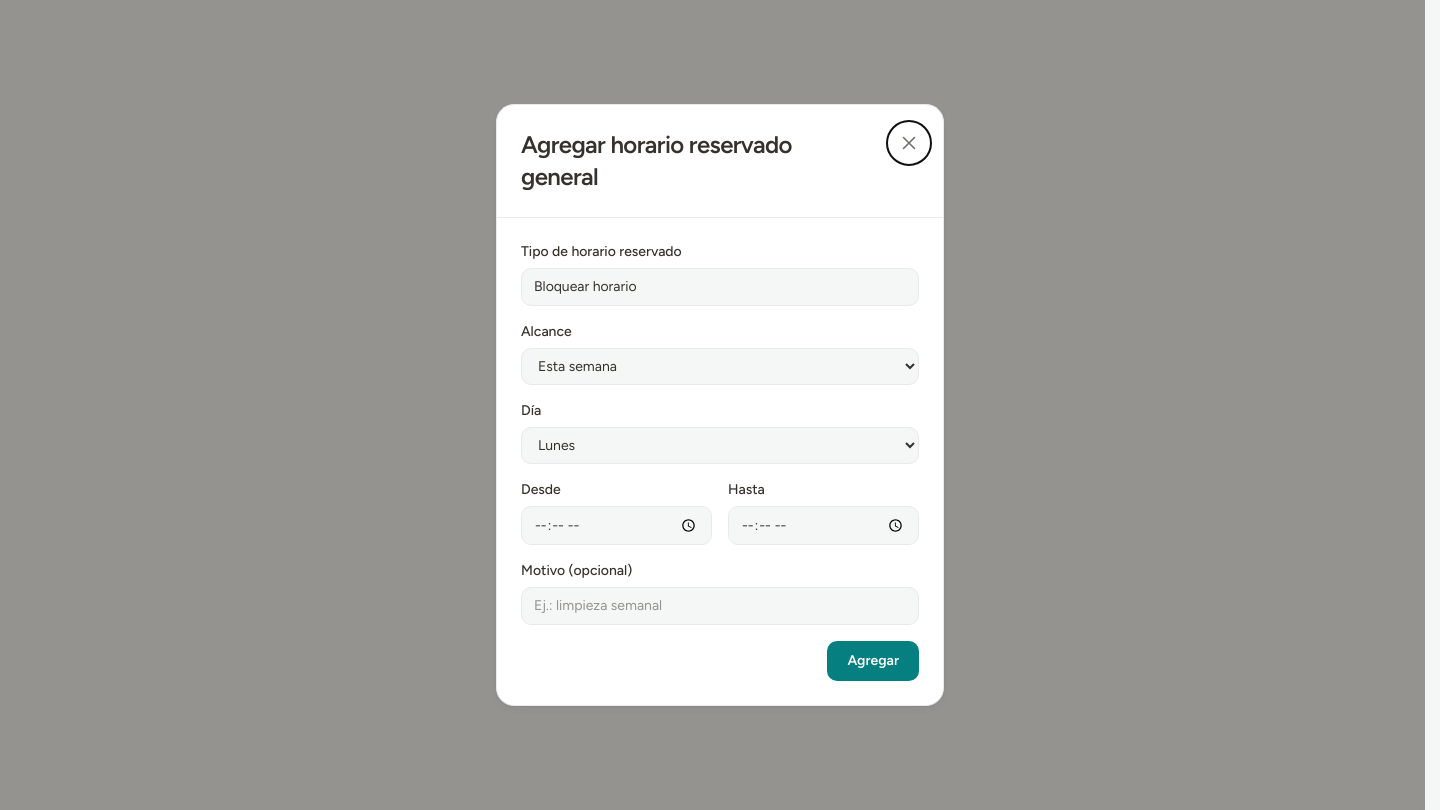
Test case: AgregarReglaModal › 'Seguir editando' vuelve al formulario sin cerrar
This screenshot has width=1440, height=810.
In the time field labelled "Desde": (616, 526) [521, 506, 712, 545], type "07:00"
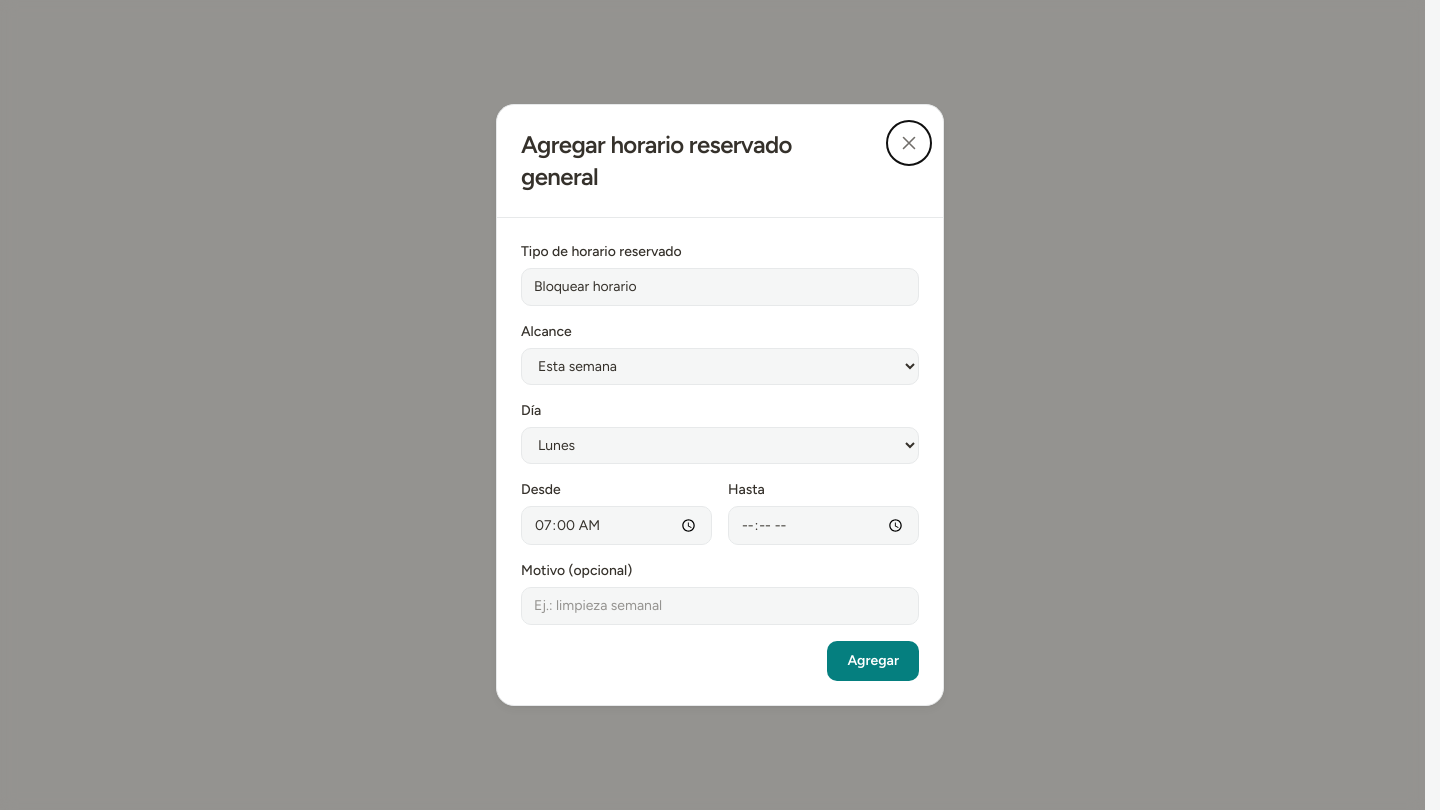
Click the button named "Cerrar": (909, 143) [887, 121, 931, 165]
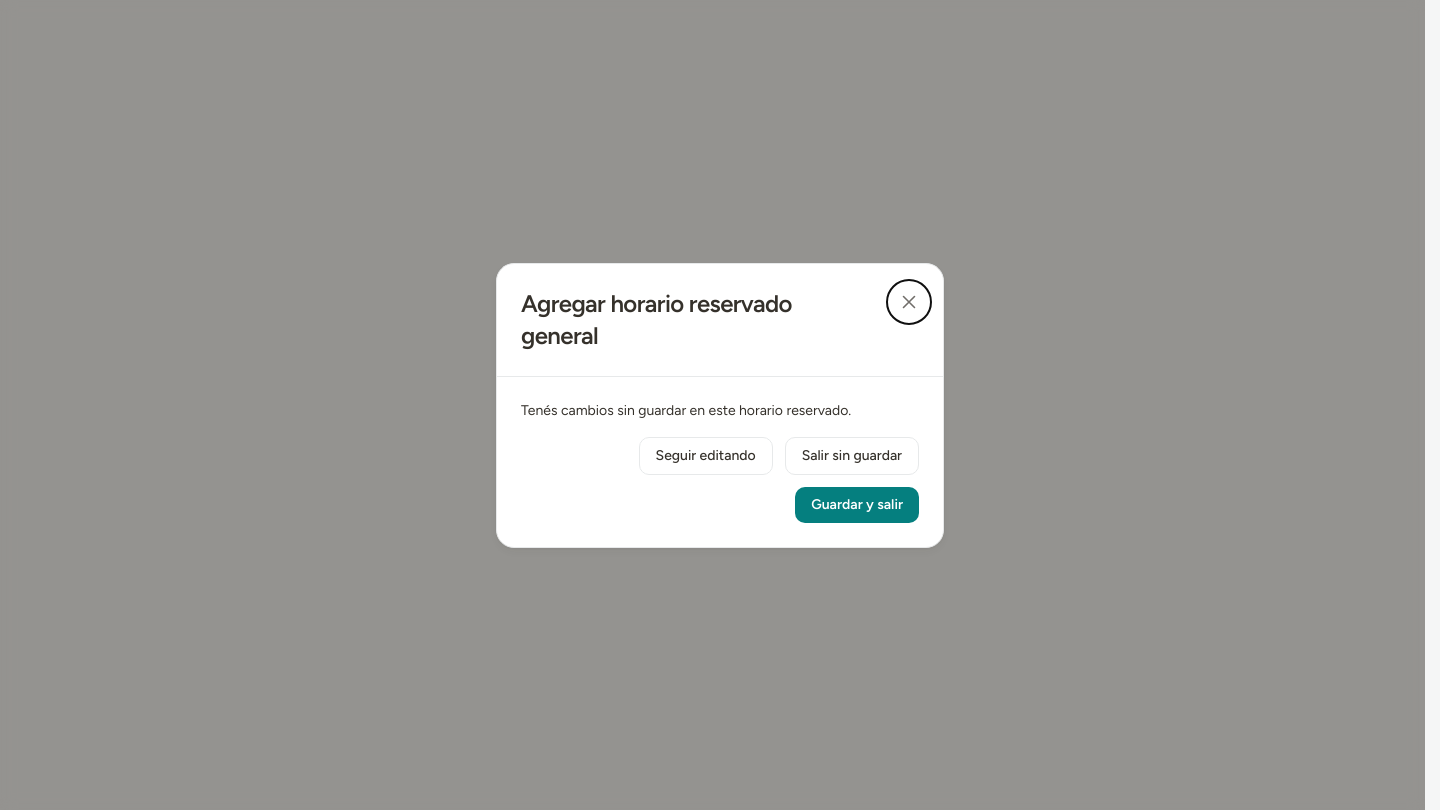
Click the button "Seguir editando": (706, 456) [639, 436, 773, 474]
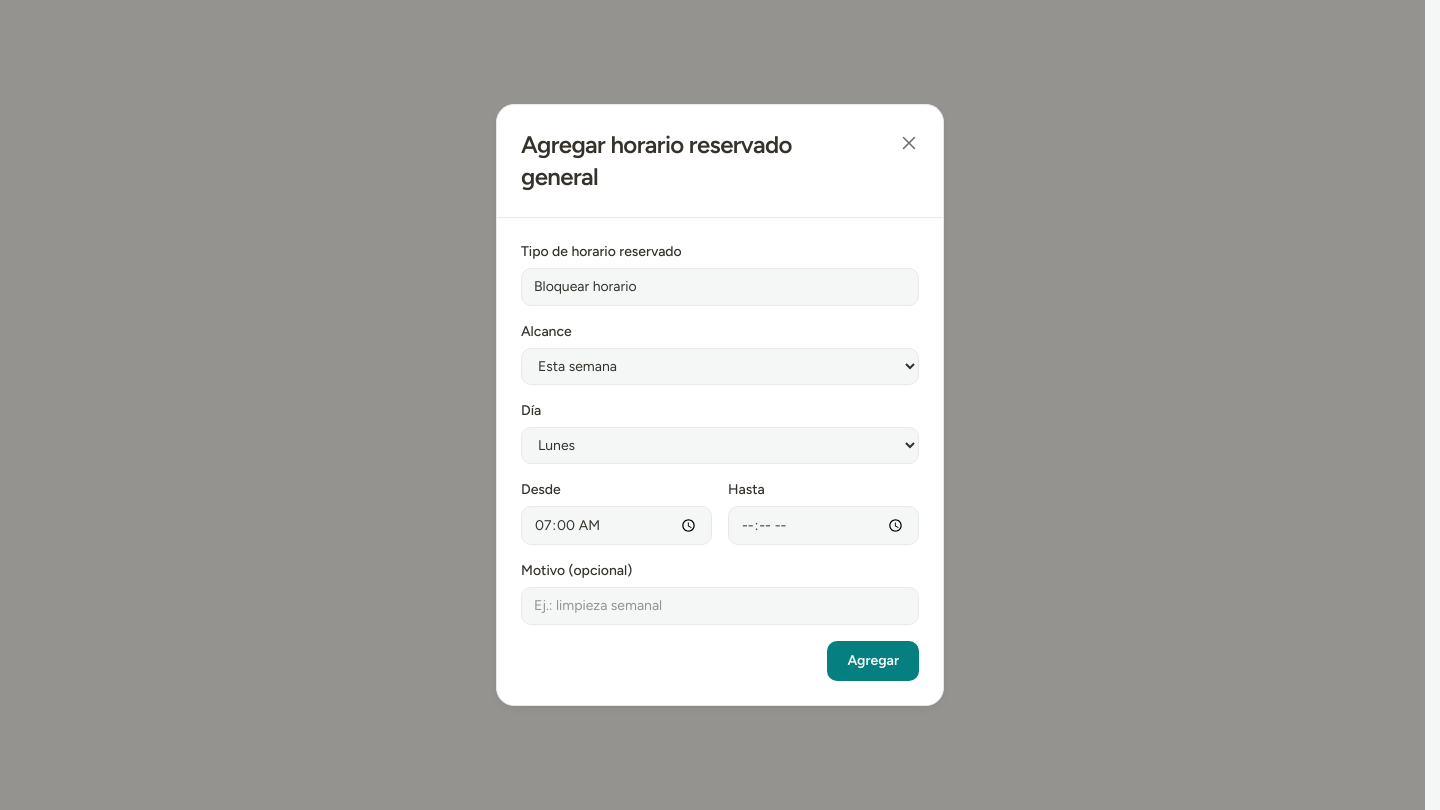
expect the time field labelled "Desde" is shown: met, box [521, 506, 712, 545]
